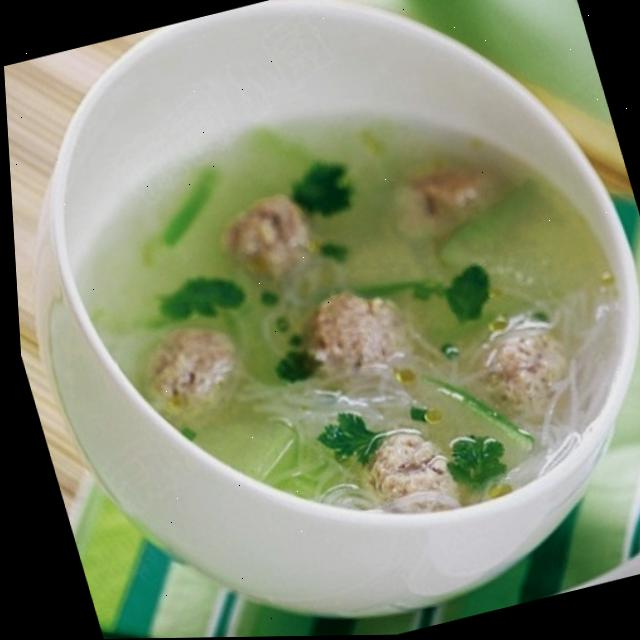汤锅炖物: (23, 40, 640, 594)
